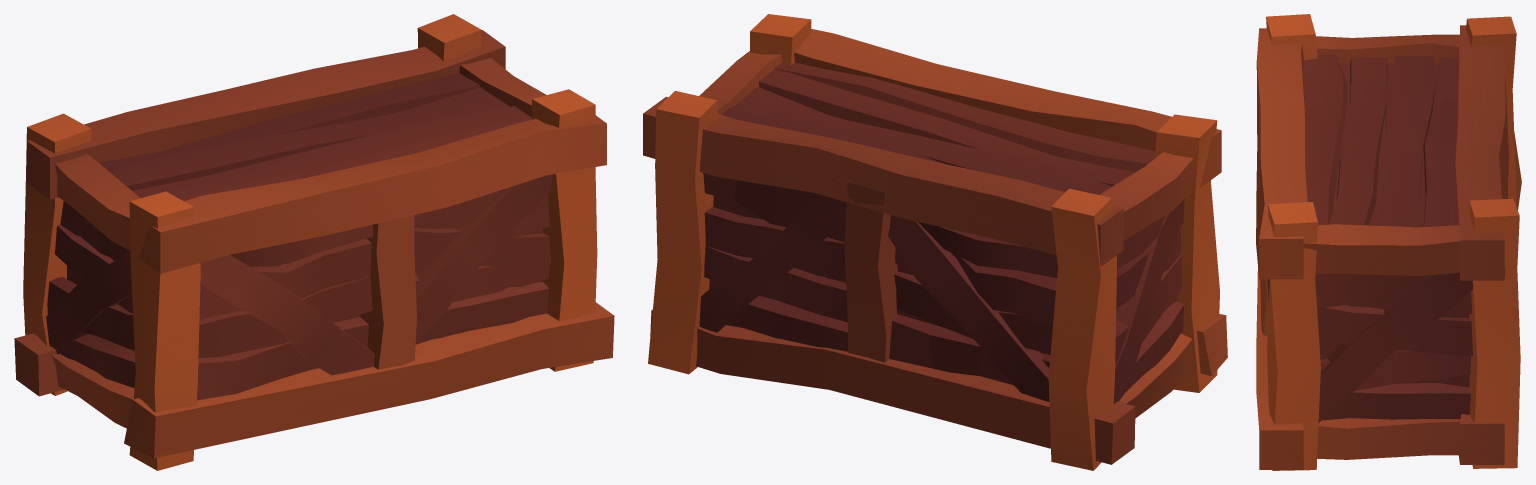
File: M_big_box.fbx
The picture shows the model from 3 angles, left to right: view 1: azimuth 30°, elevation 25°; view 2: azimuth 150°, elevation 25°; view 3: azimuth 270°, elevation 25°; orthographic projection. The views are drawn at different scales.
Parts seen in each view (by area): view 1: big_box; view 2: big_box; view 3: big_box.
Boxes of the visible parts, <box> form: big_box: <box>14,14,614,470</box>; big_box: <box>643,14,1227,470</box>; big_box: <box>1256,14,1521,470</box>.
Bounding box in the file's own units: 210 × 110 × 106.
